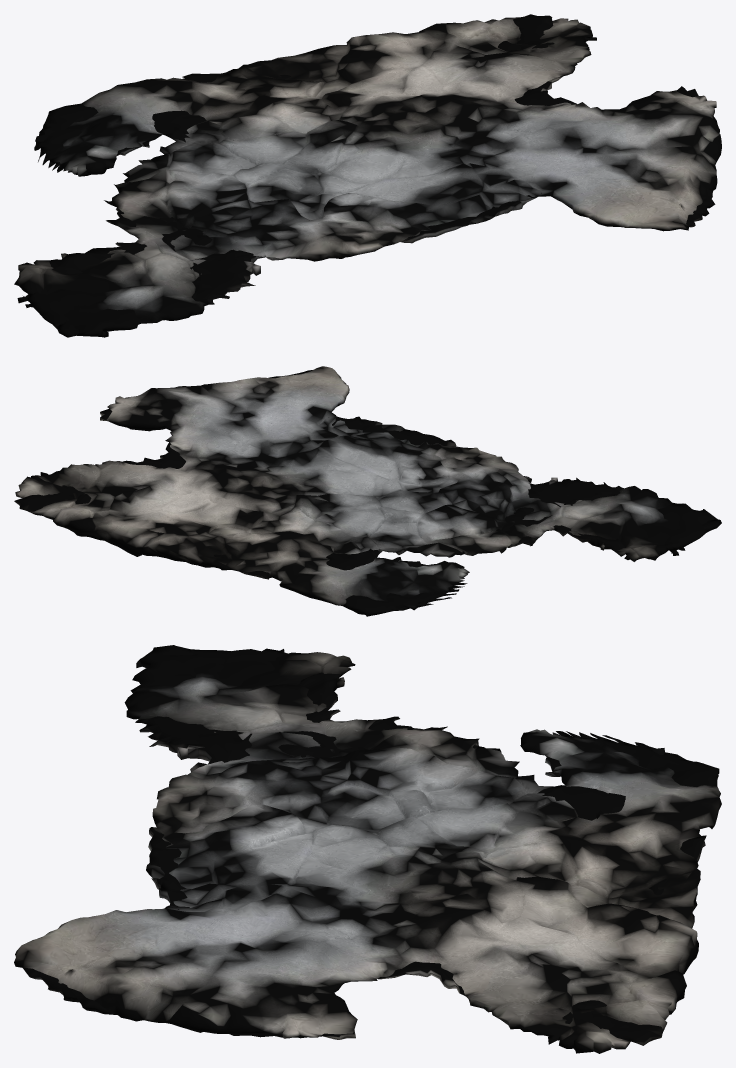
The model's file is shoreline.opt.glb.
3 renders of one model, top to bottom at view 1: azimuth 30°, elevation 25°; view 2: azimuth 150°, elevation 25°; view 3: azimuth 270°, elevation 25°, orthographic. The views are drawn at different scales.
Parts seen in each view (by area): view 1: shoreline; view 2: shoreline; view 3: shoreline.
Boxes of the visible parts, box(x1,y1,x2,y2) form: shoreline: box(14, 14, 721, 337); shoreline: box(14, 366, 721, 616); shoreline: box(14, 645, 721, 1053).
Size of the model in its own units: 59.43 by 3.32 by 42.55.
Materials: 1 (1 with a texture image).
